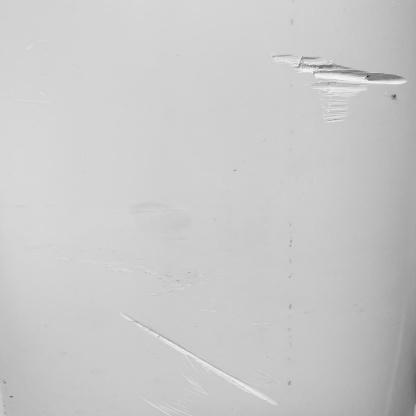sunshang: (116, 306, 283, 408), (266, 42, 405, 126)
